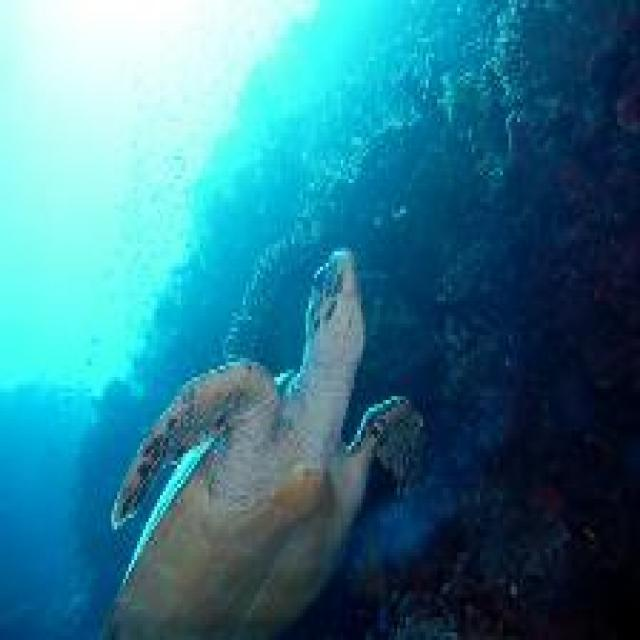Sea turtle: (102, 236, 428, 640)
